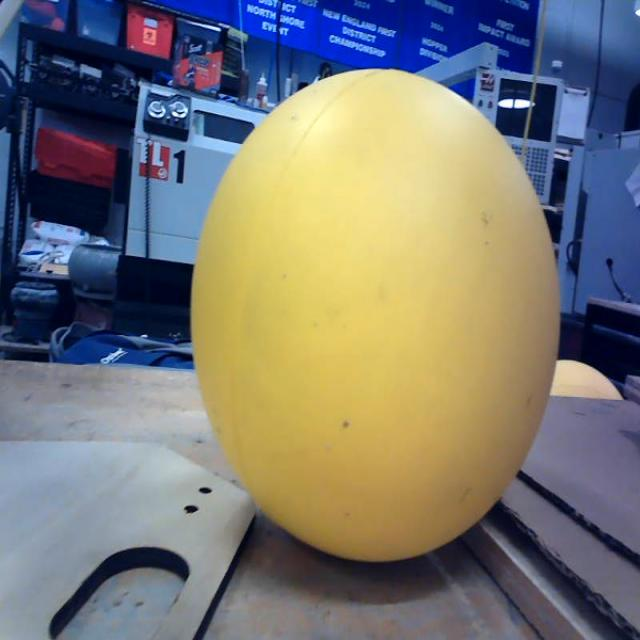Fuel: (190, 68, 559, 562)
